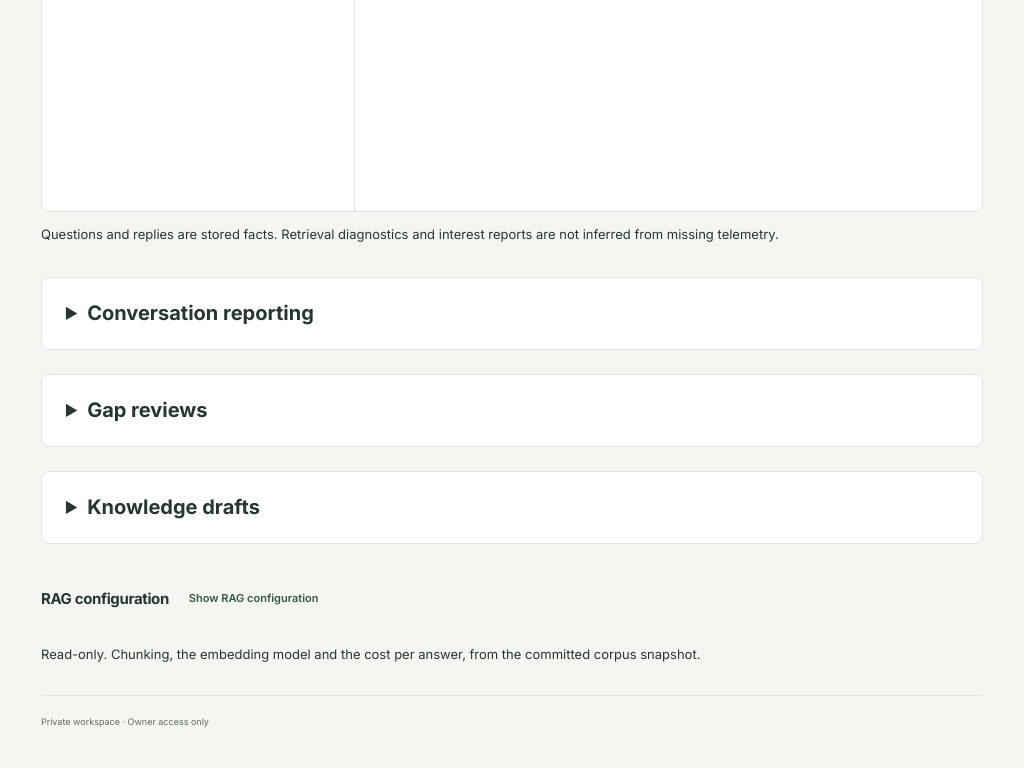
shows nothing rather than an unverified RAG response
(page scrolled)
Click the button "Show RAG configuration" at x=254, y=598, box [189,576,318,620]
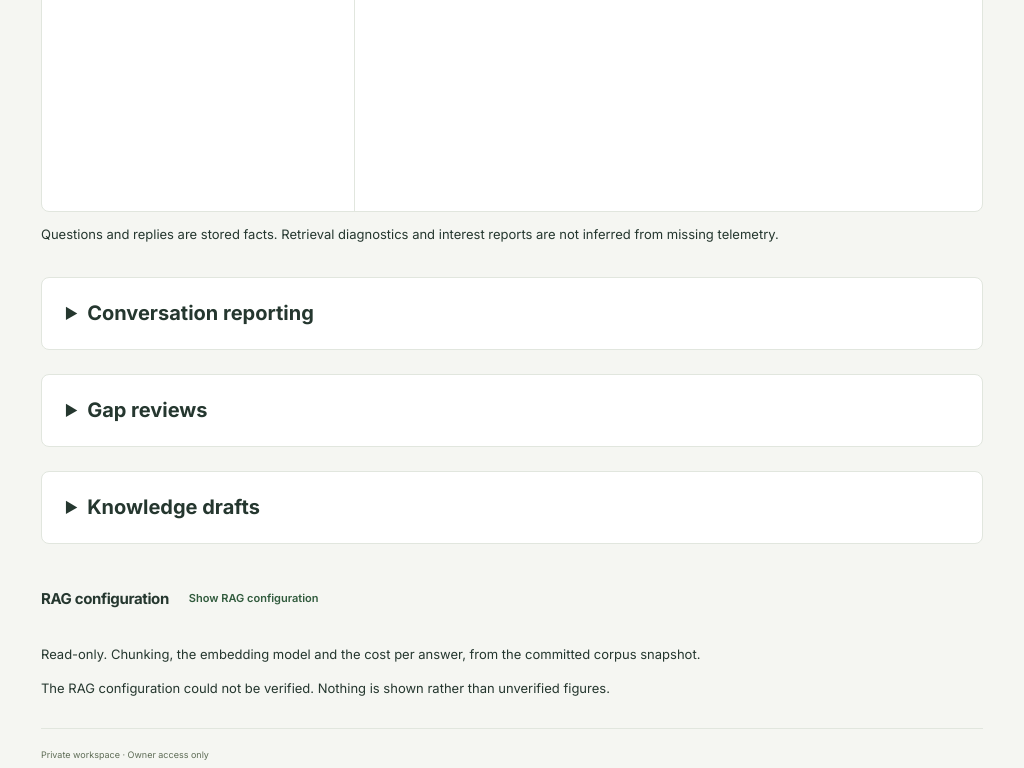
Expected: the text "could not be verified" is shown, [41,680,610,696]
